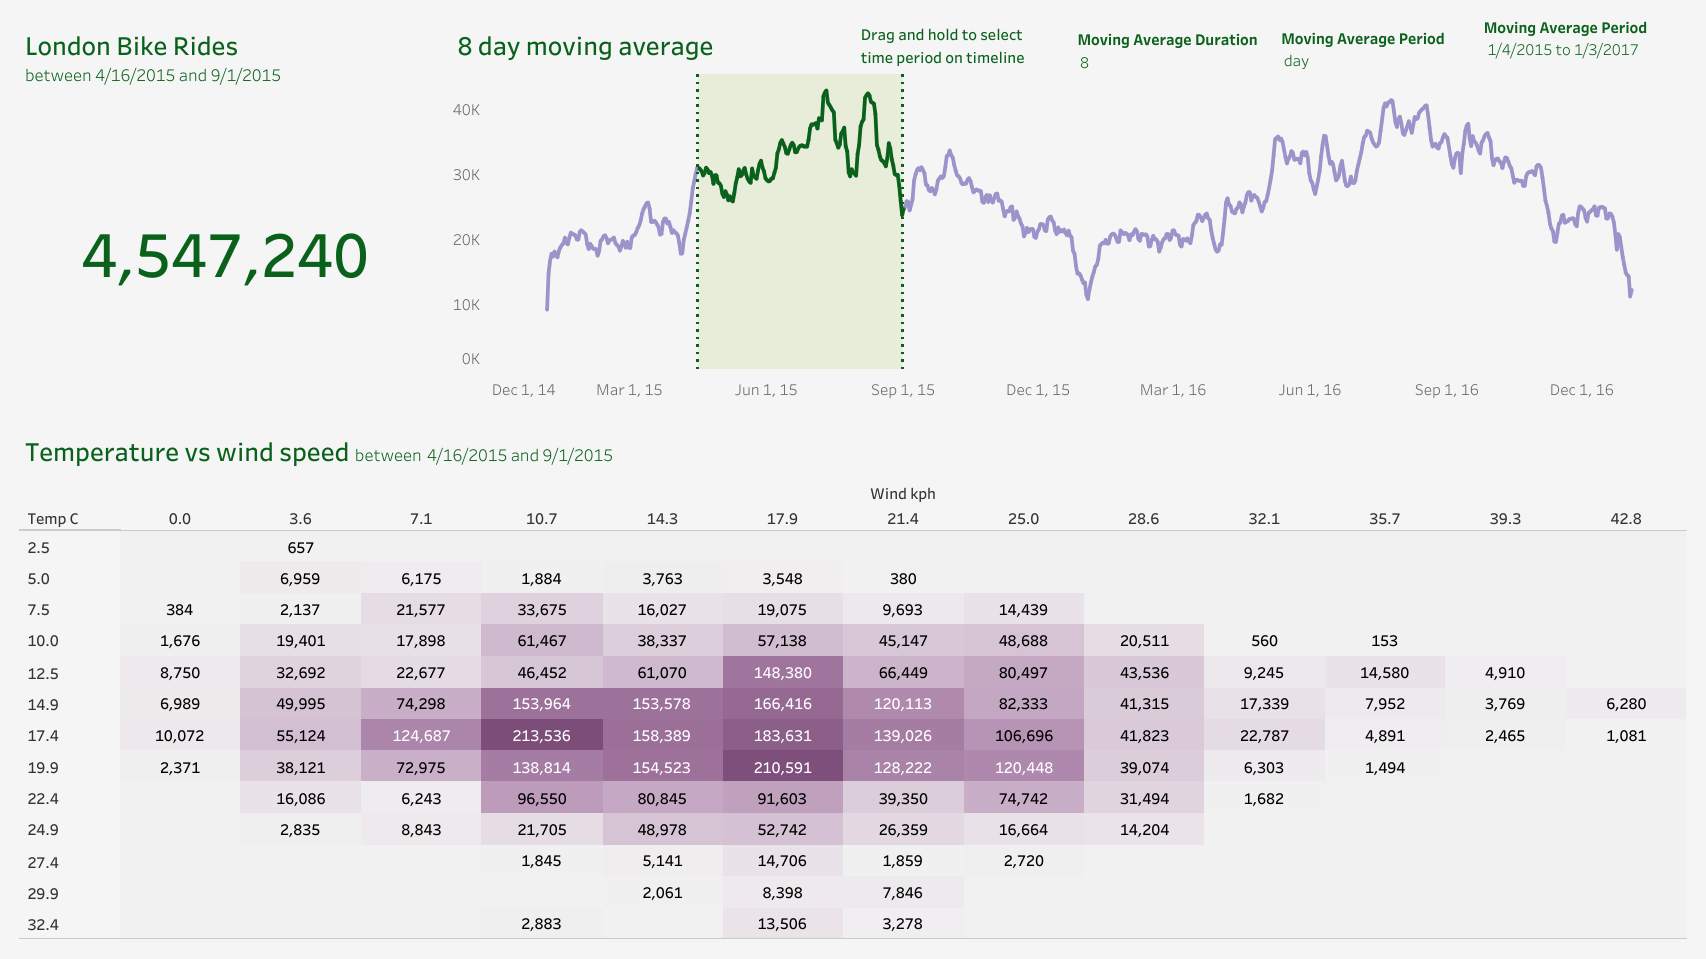

The dashboard page shown, as its layout file describes it:
{"tool":"tableau","page":{"name":"Dashboard 1","canvas":[1366,768],"ordinal":0},"visuals":[{"type":"worksheet","title":"Total Rides","mark":"Automatic","box":[8,8,346,325]},{"type":"worksheet","title":"Moving Average","mark":"Automatic","rows":["Calculation1"],"cols":["Calculation_1023443054684016645"],"box":[354,8,1004,325]},{"type":"filter","title":"Moving Average","param":"[federated.0155ink1ipmgsq151lwy60nh4sh2].[none:Calculation_1023443054684016645:q","box":[1187,11,168,73]},{"type":"text","box":[686,15,171,42]},{"type":"parameter","param":"[Parameters].[Parameter 1]","box":[1025,20,160,48]},{"type":"parameter","param":"[Parameters].[Parameter 2]","box":[862,21,160,48]},{"type":"worksheet","title":"HeatMap","mark":"Square","rows":["temp real C (bin)"],"cols":["Wind Speed Kph (bin)"],"box":[8,333,1350,427]}]}

Visuals, with their boxes in screenshot pixels (x1, y1, x2, y2), scaled from the page's 1366x768 canvas onto the 1706x959 screenshot:
"Total Rides" worksheet: l=10, t=10, r=442, b=416
"Moving Average" worksheet: l=442, t=10, r=1696, b=416
"Moving Average" filter: l=1482, t=14, r=1692, b=105
text: l=857, t=19, r=1070, b=71
parameter: l=1280, t=25, r=1480, b=85
parameter: l=1077, t=26, r=1276, b=86
"HeatMap" worksheet (Square marks): l=10, t=416, r=1696, b=949
